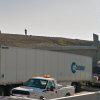Car: (11, 71, 76, 99)
